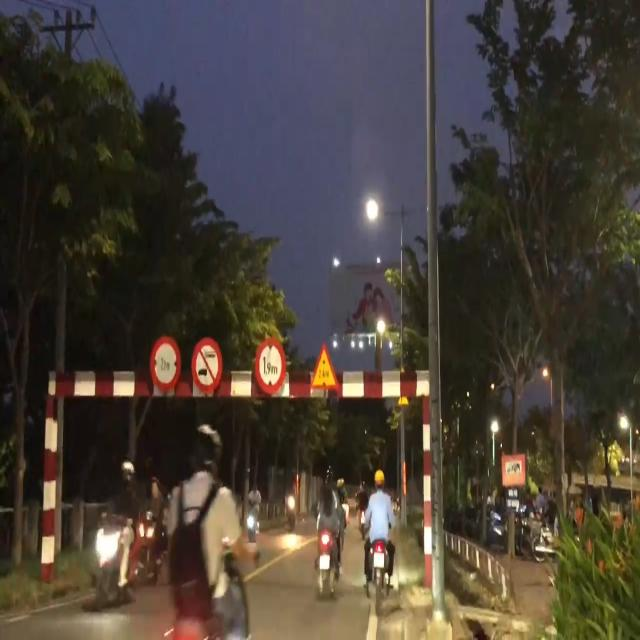Bien bao cam xe oto khach va xe oto tai: (191, 333, 226, 394)
Bien bao chieu cao tinh khong thuc te: (309, 340, 341, 396)
Bien bao han che chieu cao: (254, 335, 286, 394)
